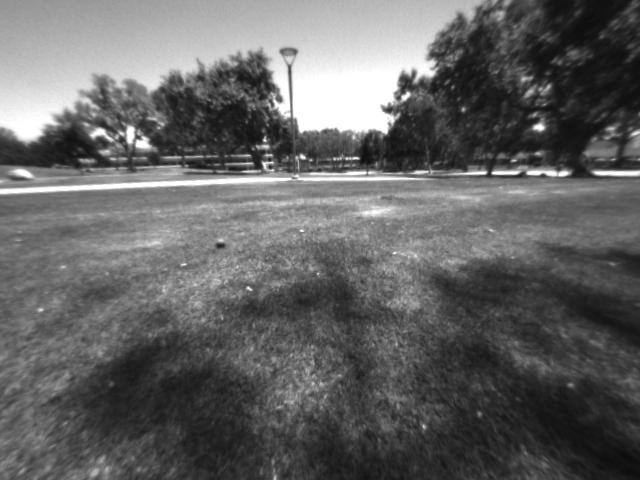dogtoy: (205, 233, 236, 257)
